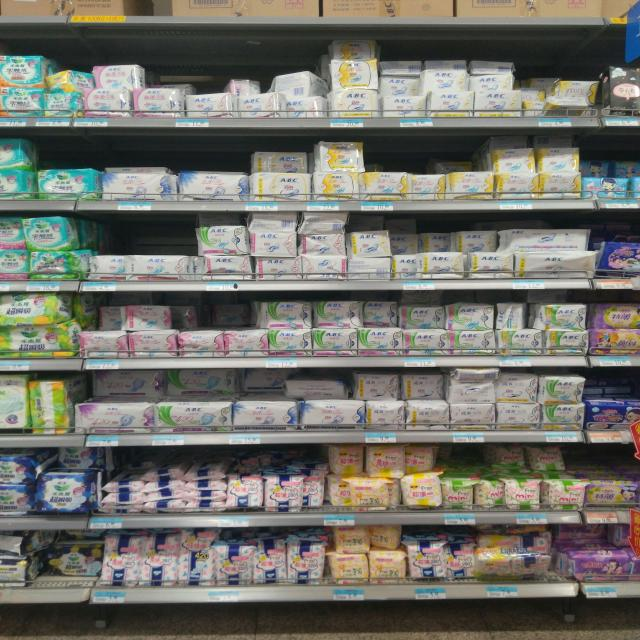empty: (41, 138, 245, 170), (103, 220, 198, 254), (366, 142, 434, 173), (442, 446, 486, 473)
